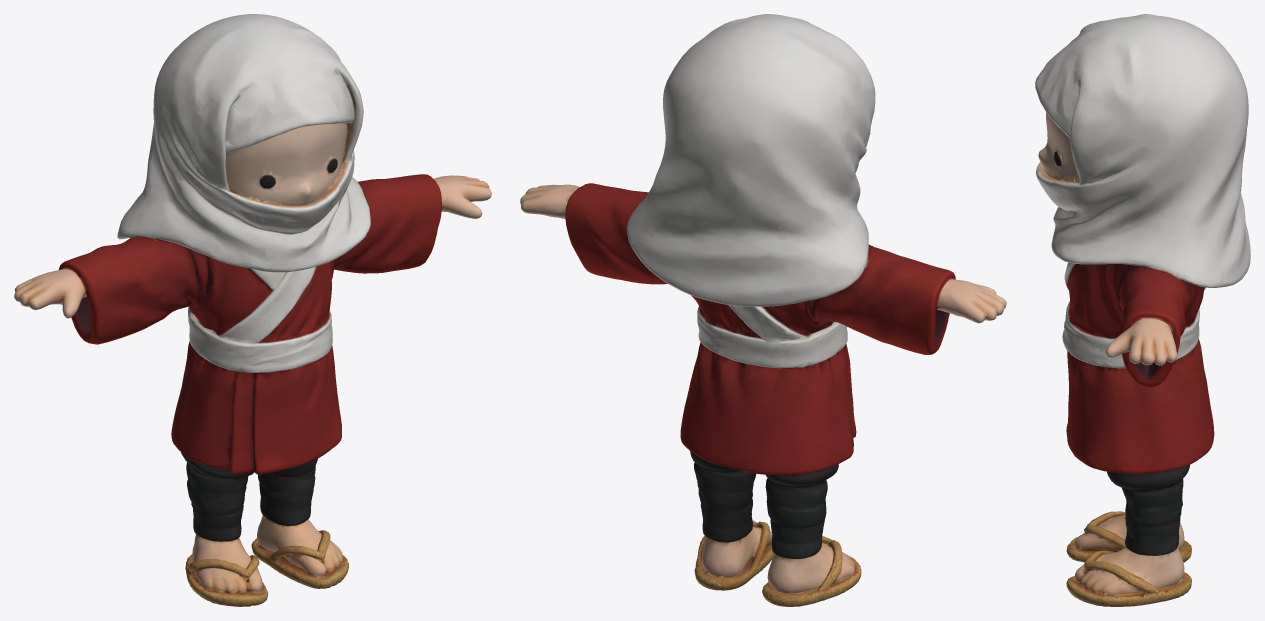
The model's file is kaku_red_hi.fbx.
3 views of the same model, side by side, from view 1: azimuth 30°, elevation 25°; view 2: azimuth 150°, elevation 25°; view 3: azimuth 270°, elevation 25° (orthographic).
Parts seen in each view (by area): view 1: kaku_red_hi; view 2: kaku_red_hi; view 3: kaku_red_hi.
Part boxes in pixels (x1,y1,x2,y2): kaku_red_hi: (14, 14, 491, 606); kaku_red_hi: (520, 14, 1006, 606); kaku_red_hi: (1035, 14, 1250, 606).
Size of the model in its own units: 152 by 170 by 60.39.
Materials: 1 (1 with a texture image).
